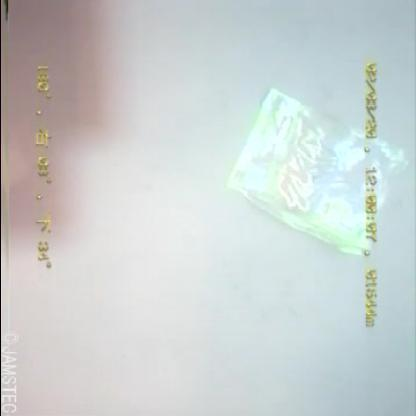Rác: (206, 70, 412, 268)
